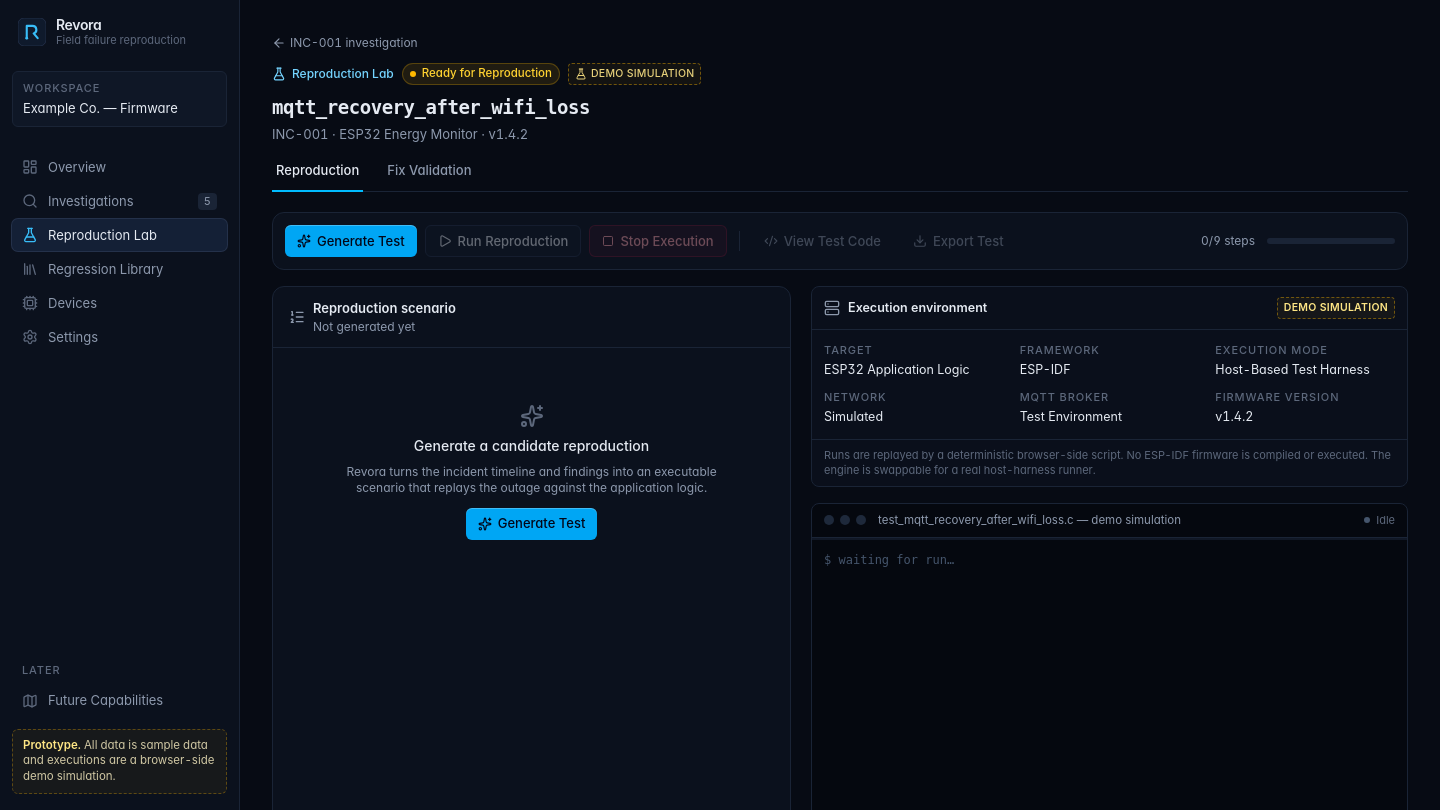
App › runs the reproduction end to end and reports "Target Failure Reproduced"
expect the navigation bar named "Primary" is shown: met, box [0, 0, 239, 809]
# Generate the scenario (step reveal uses an interval).
Click the button "Generate Test" in the row of "steps" at coordinates (351, 241), box [285, 225, 417, 257]
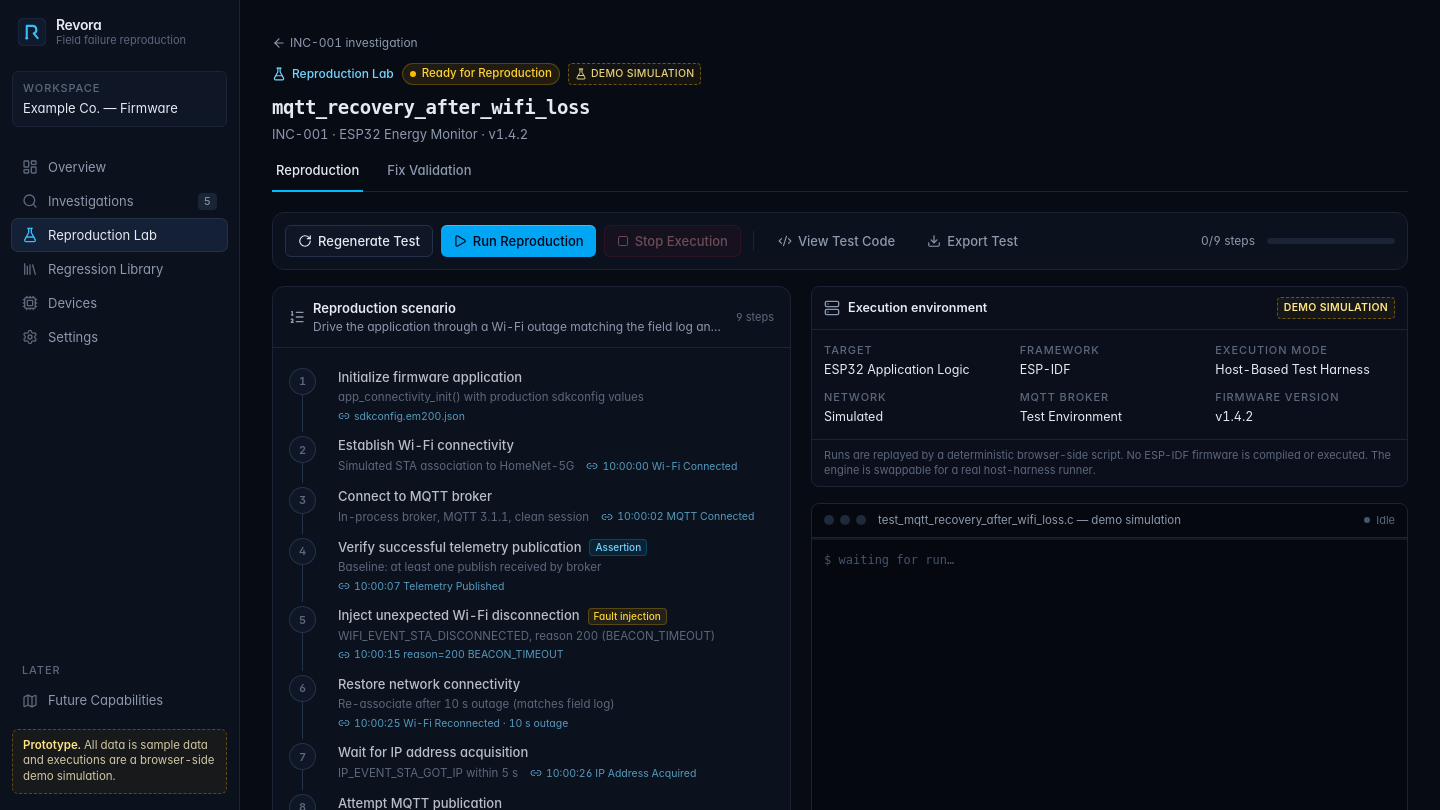
expect the button "Run Reproduction" is enabled: met
Click the button "Run Reproduction" at coordinates (518, 241), box [441, 225, 596, 257]
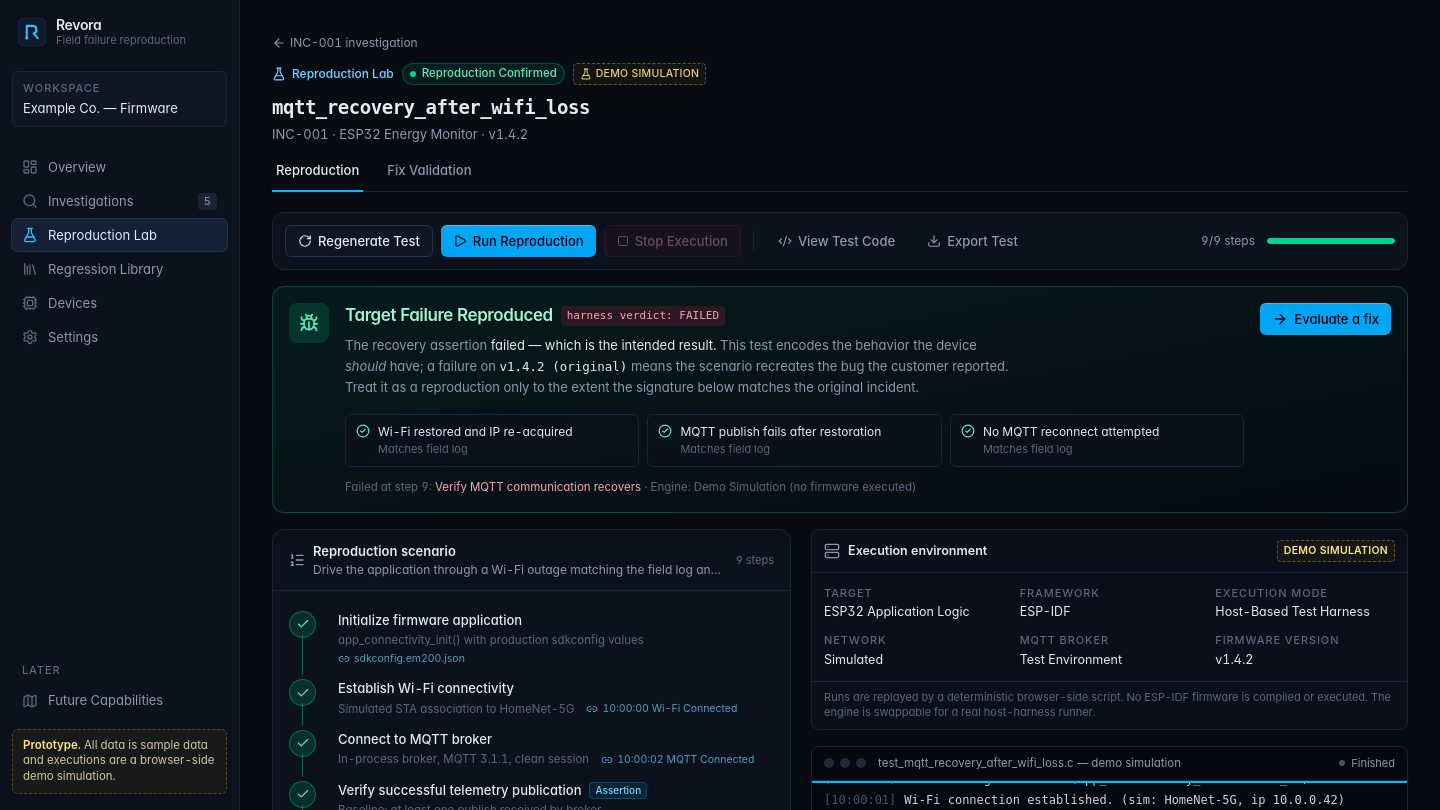
expect the heading "Target Failure Reproduced" is shown: met, box [345, 303, 553, 329]
